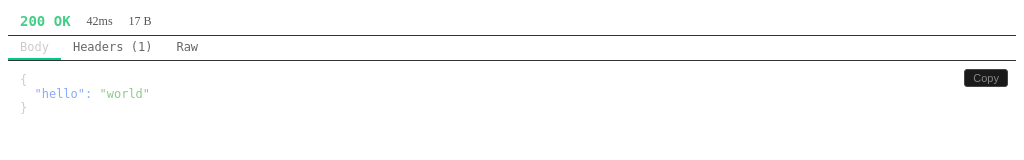
ResponseViewer › switches to Headers tab
The image size is (1024, 160).
Click the button "Headers (1)" at coordinates (113, 48), box [61,36,164,60]
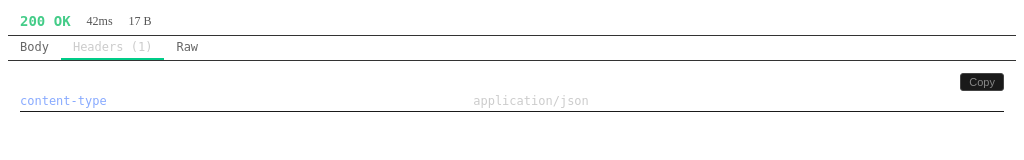
Check: the text "content-type" is shown, box [20,91,473,112]
